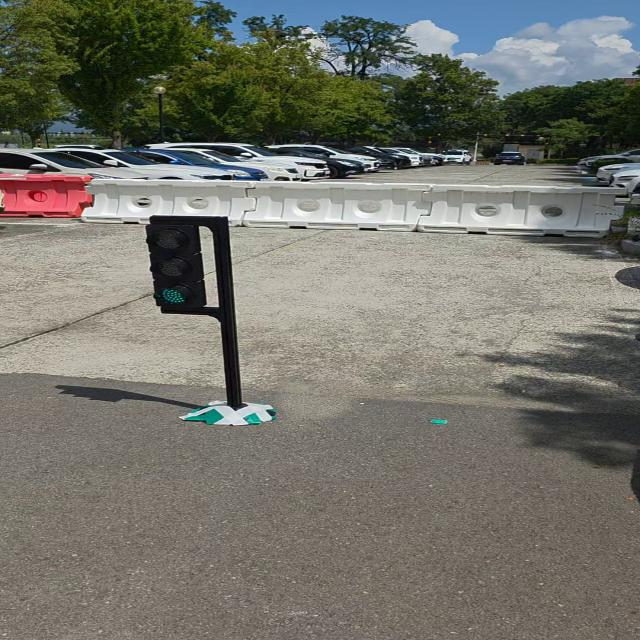green: (147, 223, 206, 314)
